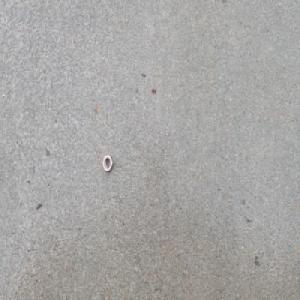Nut: (102, 154, 113, 172)
